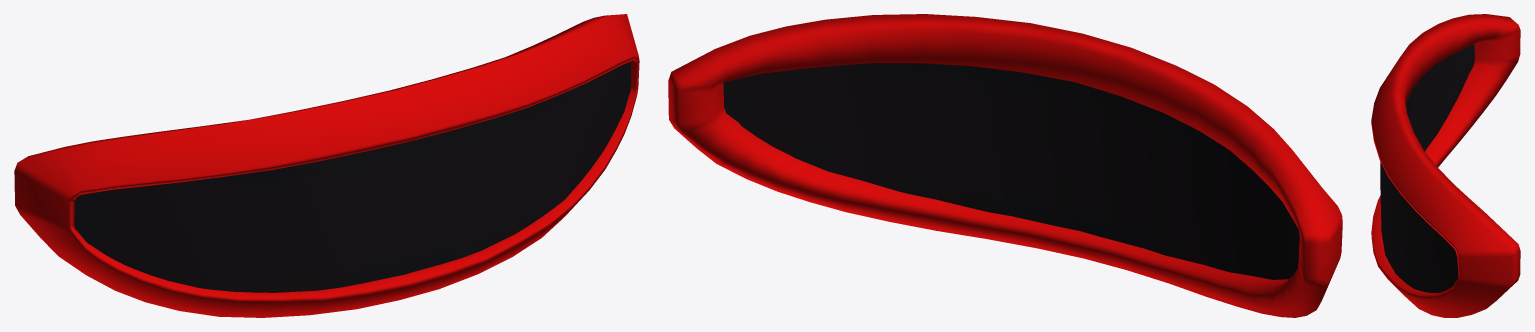
Rendered from AccessoryGlassCyber0.glb.
3 views of the same model, side by side, from view 1: azimuth 30°, elevation 25°; view 2: azimuth 150°, elevation 25°; view 3: azimuth 270°, elevation 25° (orthographic). The views are drawn at different scales.
Visible parts, largest first — view 1: Accessory__mAccessory; view 2: Accessory__mAccessory; view 3: Accessory__mAccessory.
Boxes of the visible parts, x1,y1,x2,y2 form: Accessory__mAccessory: [14, 14, 639, 317]; Accessory__mAccessory: [668, 14, 1342, 317]; Accessory__mAccessory: [1371, 14, 1520, 317].
Bounding box in the file's own units: 6.63 × 2.16 × 1.79.
1 material, 1 textured.
